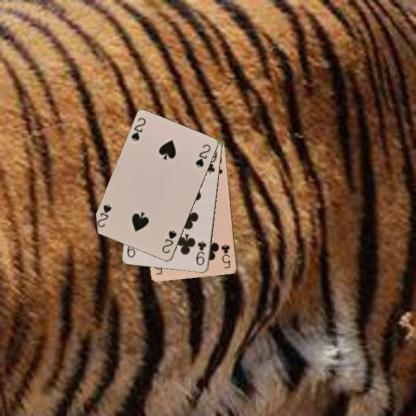2s: (128, 115, 147, 143), (159, 228, 178, 255)
5c: (220, 241, 232, 270)
9c: (194, 238, 208, 268)
